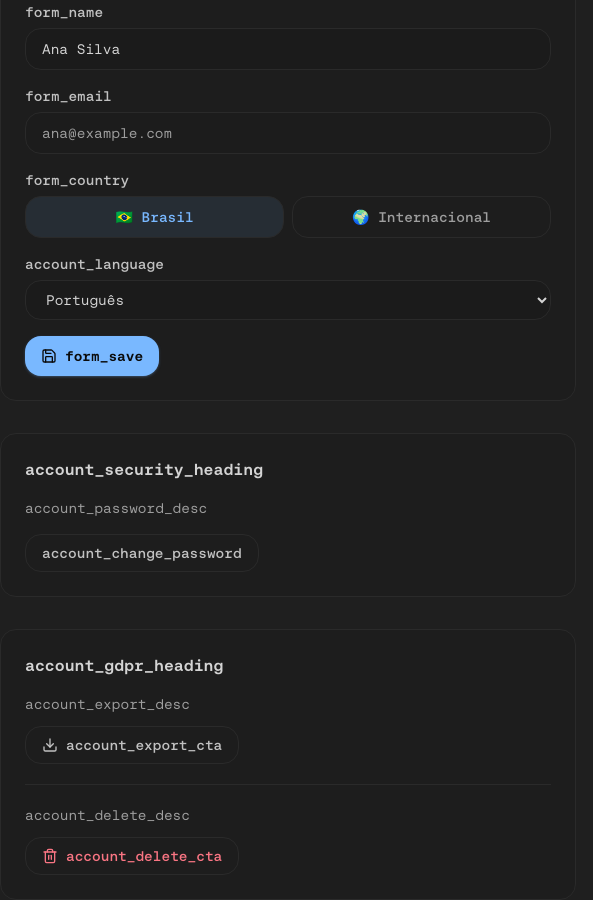
AccountSection › cancelar a exclusão volta ao estado inicial e limpa o campo (edge)
This screenshot has width=593, height=900.
(page scrolled)
Click the button "account_delete_cta" at point(132, 856), box [25,837,239,875]
(page scrolled)
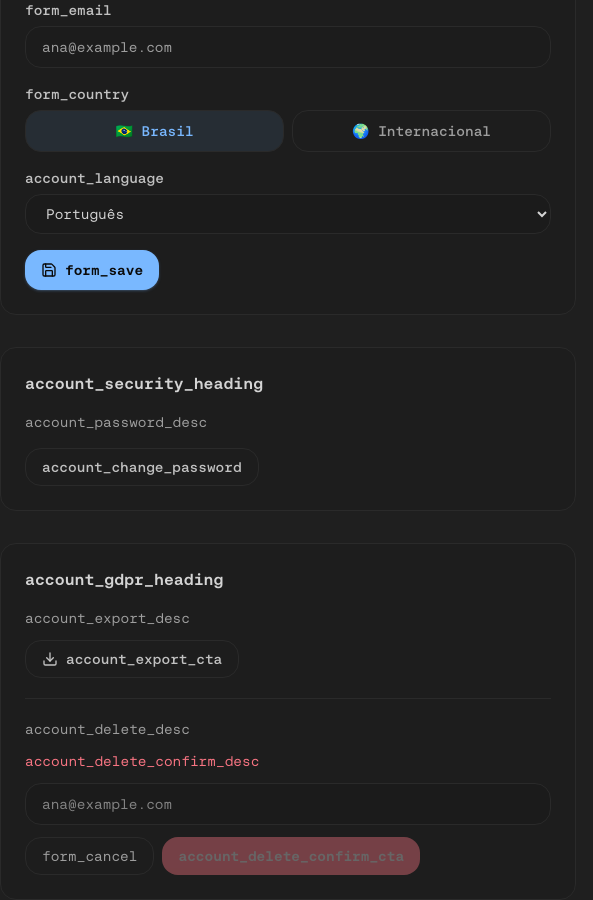
Click the button "form_cancel" at point(90, 856), box [25,837,154,875]
(page scrolled)
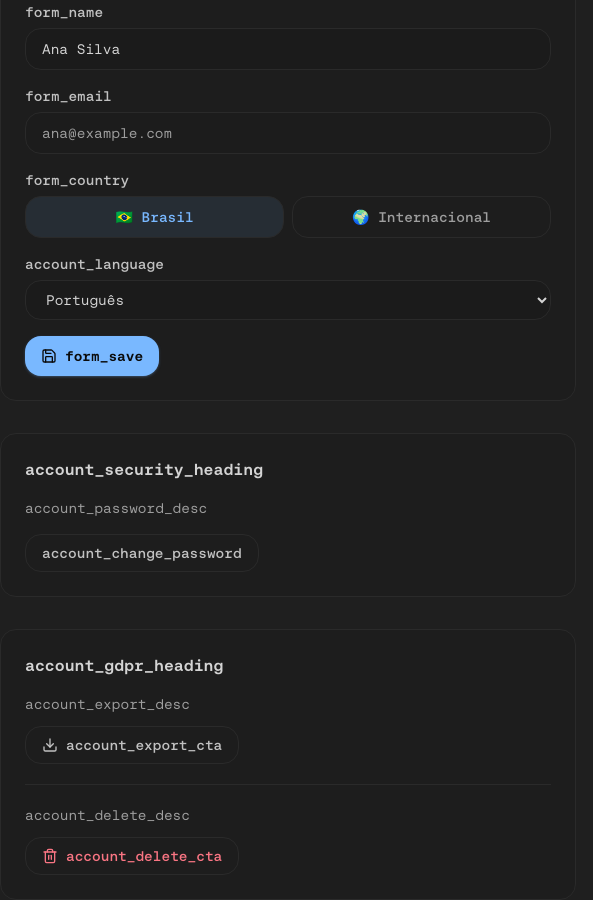
Expected: the button "account_delete_cta" is shown, [25,837,239,875]
